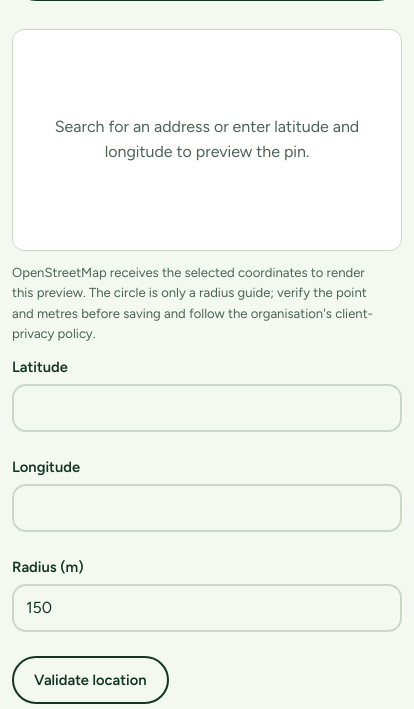
Test: MapPicker location validation › does not treat blank coordinates as zero or render a map preview
Click the button "Validate location" at point(90, 680), box [12,656,169,704]
(page scrolled)
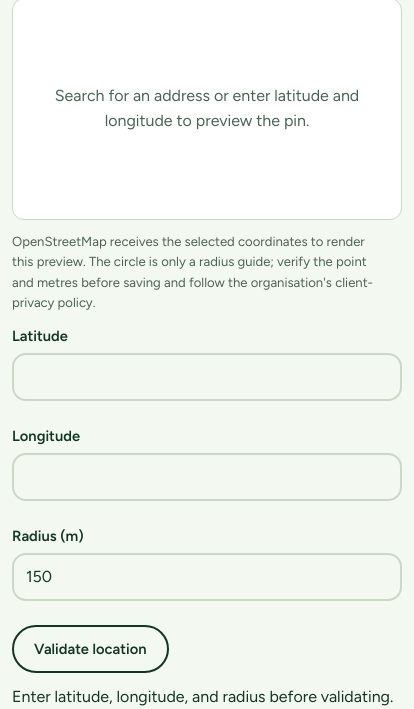
Expected: the message reads "Enter latitude, longitude, and radius before validating.", [12,687,393,706]
